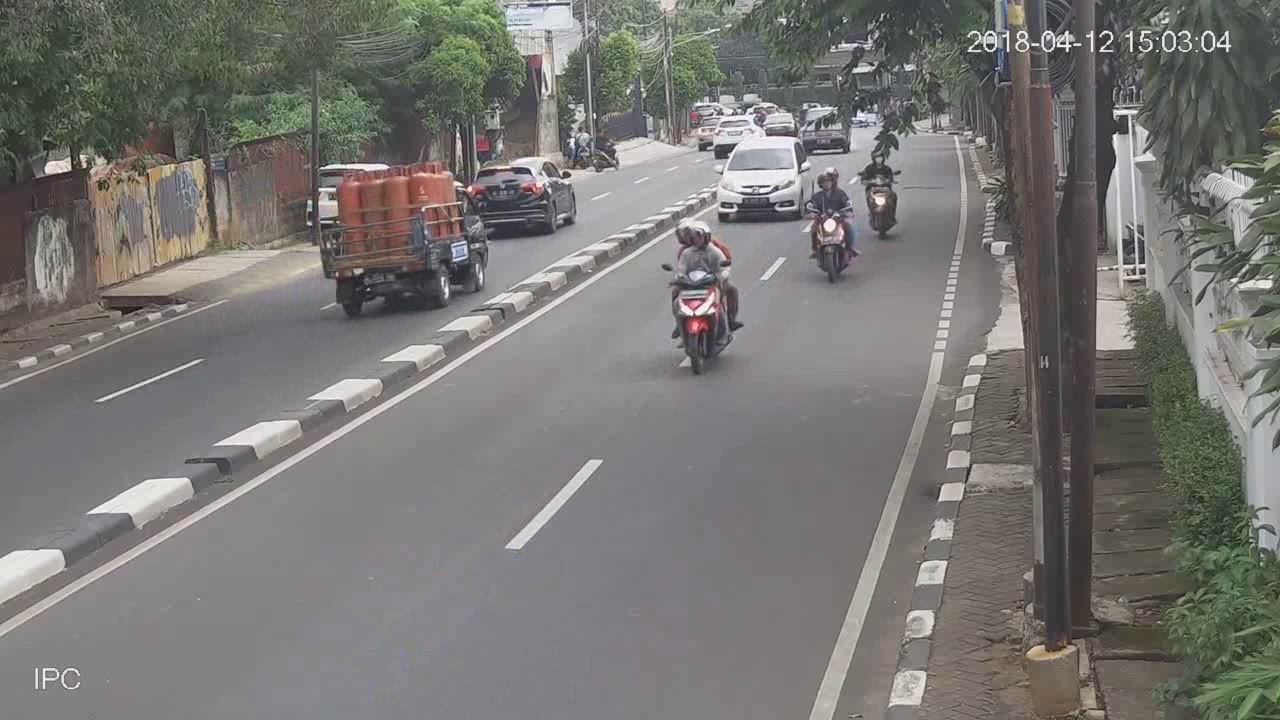car: (462, 149, 581, 234), (719, 137, 807, 226)
motorcycle: (651, 215, 750, 381), (807, 165, 861, 282), (854, 141, 908, 243)
truck: (315, 168, 491, 316)
